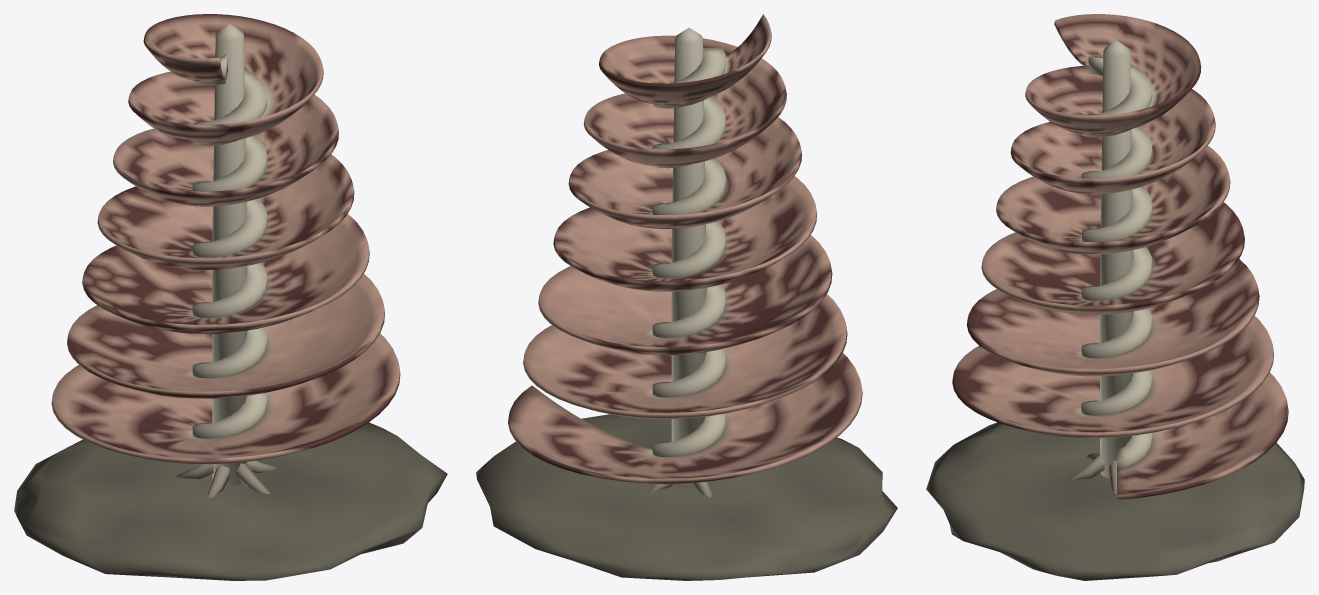
The model's file is Archimedes.fbx.
The picture shows the model from 3 angles, left to right: view 1: azimuth 30°, elevation 25°; view 2: azimuth 150°, elevation 25°; view 3: azimuth 270°, elevation 25°; orthographic projection. The views are drawn at different scales.
Parts seen in each view (by area): view 1: Archimedes; view 2: Archimedes; view 3: Archimedes.
Part boxes in pixels (left/top/right/bottom): Archimedes: left=14, top=14, right=447, bottom=580; Archimedes: left=476, top=14, right=897, bottom=580; Archimedes: left=926, top=14, right=1304, bottom=580.
Size of the model in its own units: 1.1 by 1.38 by 1.02.
